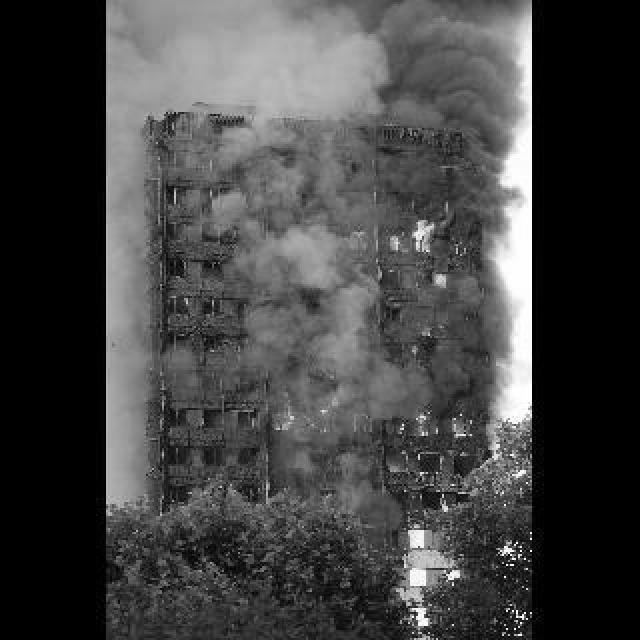Fire: (384, 218, 476, 256), (408, 398, 478, 440), (284, 396, 304, 426)
Smoke: (108, 2, 534, 134), (218, 136, 384, 396), (462, 136, 528, 398)
